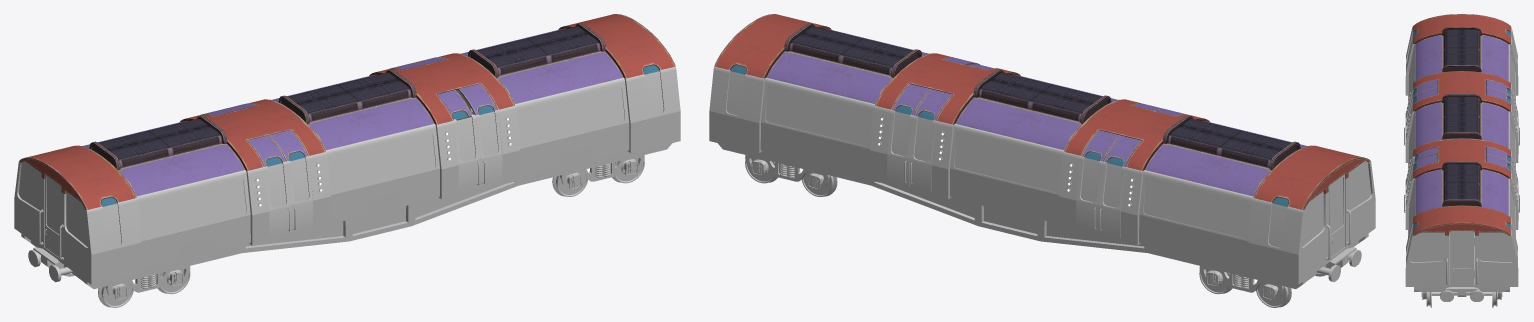
File: ВОГОН ПРИЦЕП ПАС.fbx
The picture shows the model from 3 angles, left to right: view 1: azimuth 30°, elevation 25°; view 2: azimuth 150°, elevation 25°; view 3: azimuth 270°, elevation 25°; orthographic projection. The views are drawn at different scales.
Visible parts, largest first — view 1: КОРПУС, КРЫША, Платформа, ДВЕРЬ РАЗДВИЖ.009, ДВЕРЬ РАЗДВИЖ.008, ДВЕРЬ РАЗДВИЖ.011, ДВЕРЬ РАЗДВИЖ.010, ДВЕРЬ З, ДВЕРЬ РАЗДВИЖ.003, ДВЕРЬ РАЗДВИЖ, ДВЕРЬ РАЗДВИЖ.001, ДВЕРЬ РАЗДВИЖ.002; view 2: КОРПУС, КРЫША, Платформа, ДВЕРЬ РАЗДВИЖ.014, ДВЕРЬ РАЗДВИЖ.012, ДВЕРЬ РАЗДВИЖ.015, ДВЕРЬ РАЗДВИЖ.013, ДВЕРЬ З, ДВЕРЬ РАЗДВИЖ.004, ДВЕРЬ РАЗДВИЖ.006, ДВЕРЬ РАЗДВИЖ.007, ДВЕРЬ РАЗДВИЖ.005; view 3: КРЫША, КОРПУС, ДВЕРЬ П, Платформа, ДВЕРЬ РАЗДВИЖ.007, ДВЕРЬ РАЗДВИЖ.005, ДВЕРЬ РАЗДВИЖ.004, ДВЕРЬ РАЗДВИЖ.006, ДВЕРЬ РАЗДВИЖ.003, ДВЕРЬ РАЗДВИЖ.001, ДВЕРЬ РАЗДВИЖ, ДВЕРЬ РАЗДВИЖ.002 (+5 smaller).
Boxes of the visible parts, box(x1,y1,x2,y2) form: КОРПУС: box(14, 29, 680, 284); КРЫША: box(19, 14, 675, 210); Платформа: box(21, 143, 672, 307); ДВЕРЬ РАЗДВИЖ.009: box(453, 114, 480, 191); ДВЕРЬ РАЗДВИЖ.008: box(475, 110, 502, 186); ДВЕРЬ РАЗДВИЖ.011: box(264, 161, 291, 237); ДВЕРЬ РАЗДВИЖ.010: box(286, 156, 312, 232); ДВЕРЬ З: box(44, 174, 61, 257); ДВЕРЬ РАЗДВИЖ.003: box(458, 83, 497, 115); ДВЕРЬ РАЗДВИЖ: box(247, 135, 286, 166); ДВЕРЬ РАЗДВИЖ.001: box(269, 129, 307, 161); ДВЕРЬ РАЗДВИЖ.002: box(437, 90, 471, 119); КОРПУС: box(709, 29, 1375, 284); КРЫША: box(714, 14, 1370, 210); Платформа: box(718, 143, 1368, 307); ДВЕРЬ РАЗДВИЖ.014: box(909, 115, 935, 191); ДВЕРЬ РАЗДВИЖ.012: box(1098, 162, 1125, 238); ДВЕРЬ РАЗДВИЖ.015: box(887, 110, 913, 186); ДВЕРЬ РАЗДВИЖ.013: box(1076, 156, 1102, 232); ДВЕРЬ З: box(1328, 174, 1345, 257); ДВЕРЬ РАЗДВИЖ.004: box(1103, 135, 1142, 166); ДВЕРЬ РАЗДВИЖ.006: box(914, 89, 952, 120); ДВЕРЬ РАЗДВИЖ.007: box(892, 83, 930, 115); ДВЕРЬ РАЗДВИЖ.005: box(1081, 130, 1120, 161); КРЫША: box(1413, 14, 1510, 235); КОРПУС: box(1405, 26, 1518, 286); ДВЕРЬ П: box(1449, 231, 1474, 284); Платформа: box(1414, 287, 1509, 307); ДВЕРЬ РАЗДВИЖ.007: box(1486, 154, 1511, 171); ДВЕРЬ РАЗДВИЖ.005: box(1486, 87, 1511, 104); ДВЕРЬ РАЗДВИЖ.004: box(1486, 79, 1511, 96); ДВЕРЬ РАЗДВИЖ.006: box(1486, 146, 1511, 163); ДВЕРЬ РАЗДВИЖ.003: box(1413, 154, 1437, 171); ДВЕРЬ РАЗДВИЖ.001: box(1413, 87, 1437, 104); ДВЕРЬ РАЗДВИЖ: box(1413, 79, 1437, 96); ДВЕРЬ РАЗДВИЖ.002: box(1414, 147, 1437, 162).
Size of the model in its own units: 2601 by 567 by 587.
